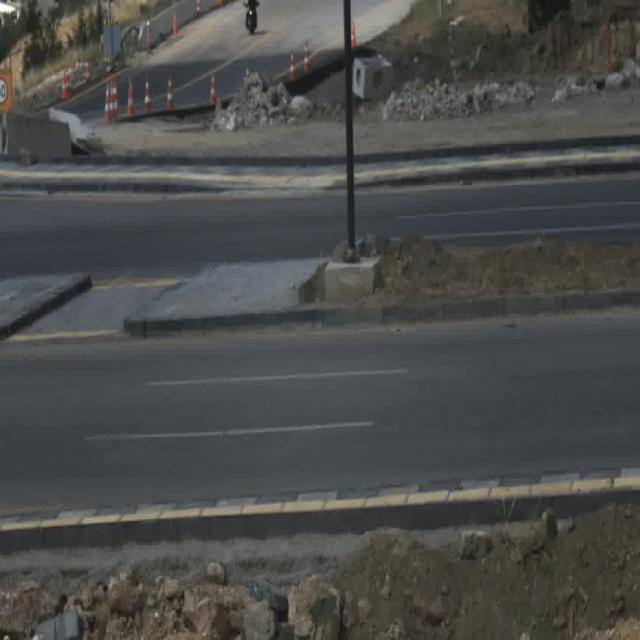Motorcycle: (243, 0, 259, 36)
